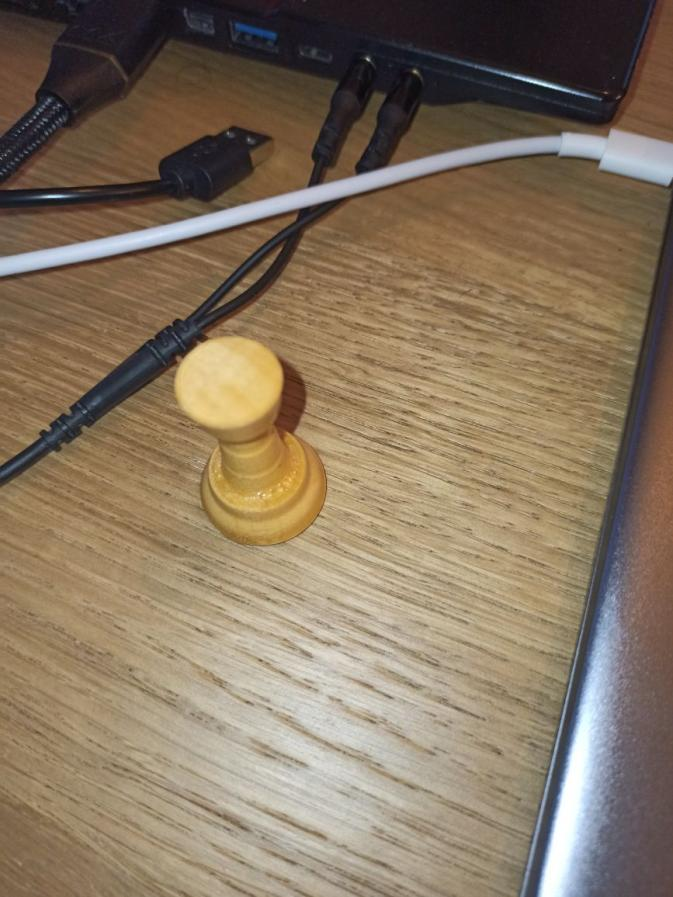wrook: (174, 335, 329, 547)
